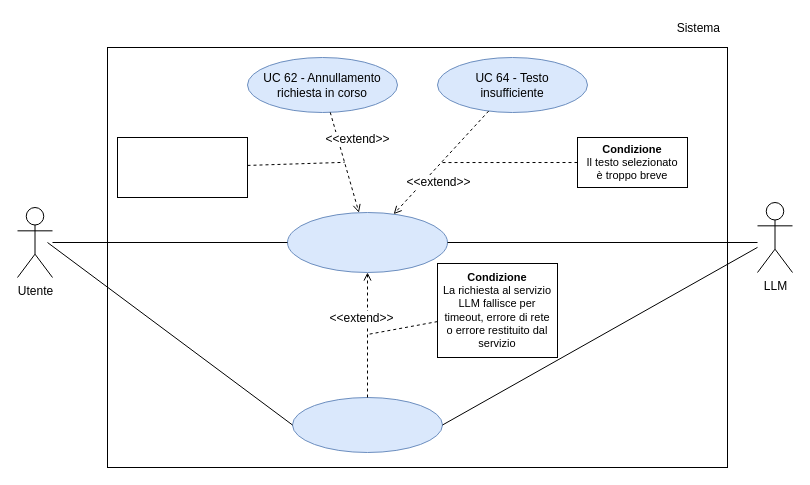
Some shapes in this 810 by 485 pixel diagram are drawn without their labels. Each missing label, with the centre of its shape:
Condizione L'utente decide di interrompere la richiesta: [182,167]
UC 53 - Traduzione contenuto: [367,242]
UC 63 - Errore LLM: [367,424]
